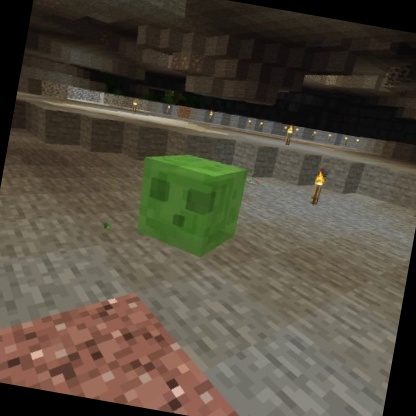slime: (125, 142, 253, 267)
